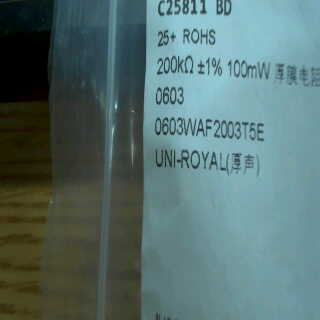200kR: (154, 49, 195, 80)
